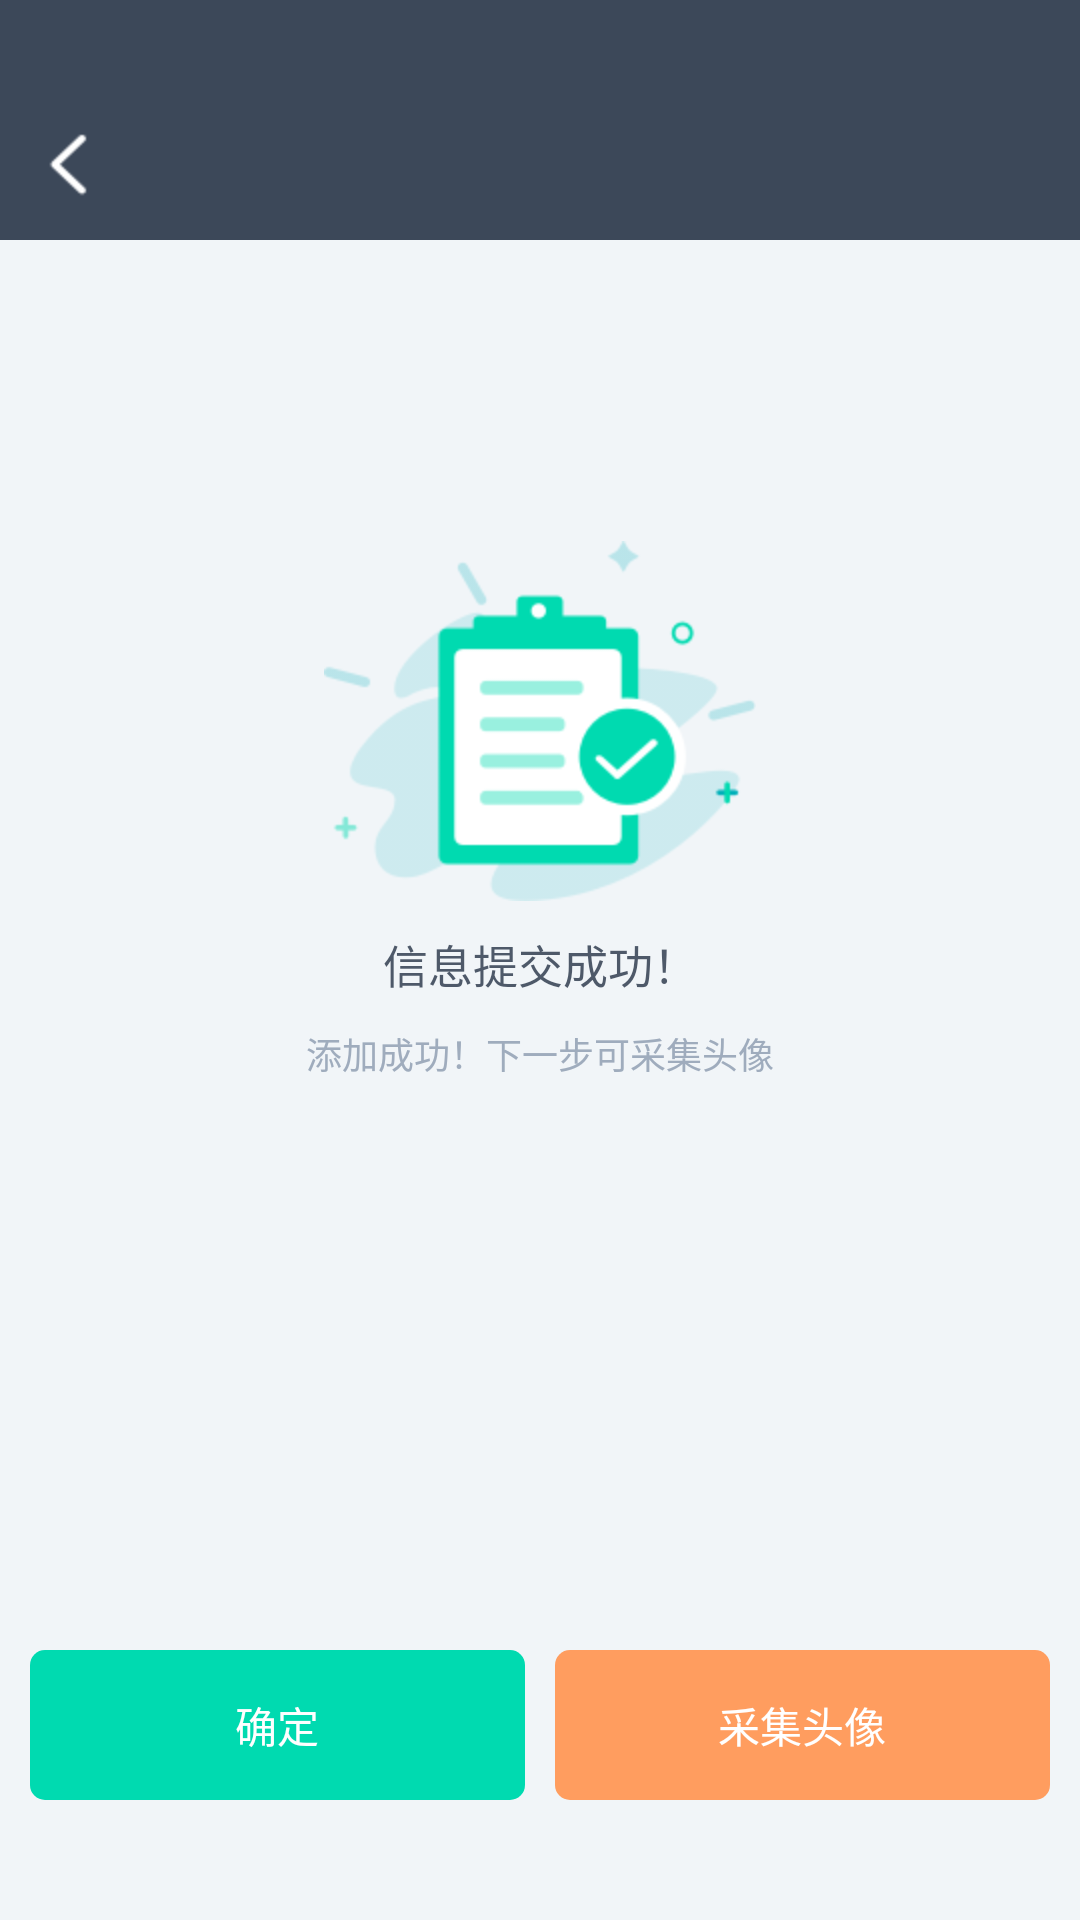

Screen size 1080px×1920px. Icon name, then its box in pixels as {"x1": x1, "y1": y1, "x2": x2, "y2": y2}:
back: {"x1": 50, "y1": 134, "x2": 87, "y2": 195}
